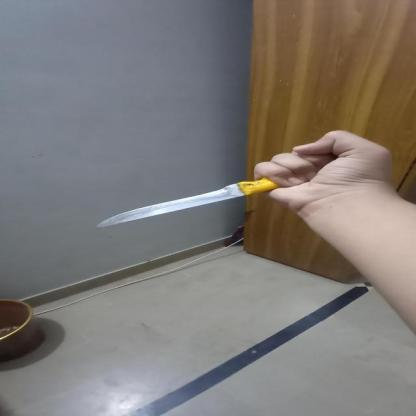Knife: (96, 178, 278, 228)
